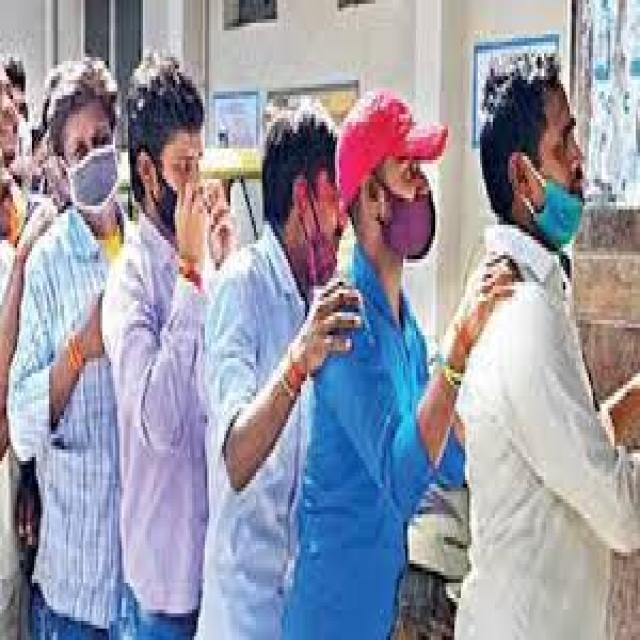cap: (329, 80, 448, 225)
